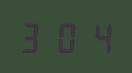four: (81, 20, 111, 53)
three: (18, 20, 48, 53)
zero: (50, 20, 80, 53)
